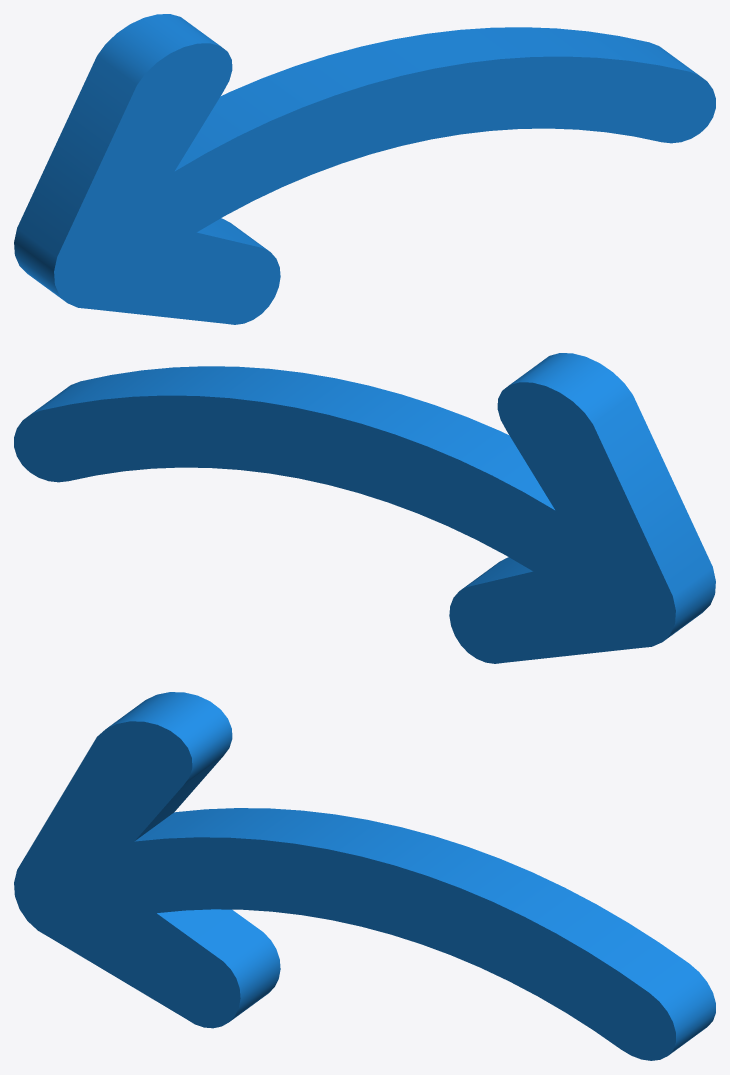
File: arrow.glb
3 views of the same model, one above another, from view 1: azimuth 30°, elevation 25°; view 2: azimuth 150°, elevation 25°; view 3: azimuth 330°, elevation 25° (orthographic).
Visible parts, largest first — view 1: Arrow16_15; view 2: Arrow16_15; view 3: Arrow16_15.
Boxes of the visible parts, x1=… form: Arrow16_15: x1=14, y1=14, x2=715, y2=324; Arrow16_15: x1=14, y1=353, x2=715, y2=663; Arrow16_15: x1=14, y1=692, x2=715, y2=1060.
Bounding box in the file's own units: 0.3403 × 0.1431 × 0.0357.
